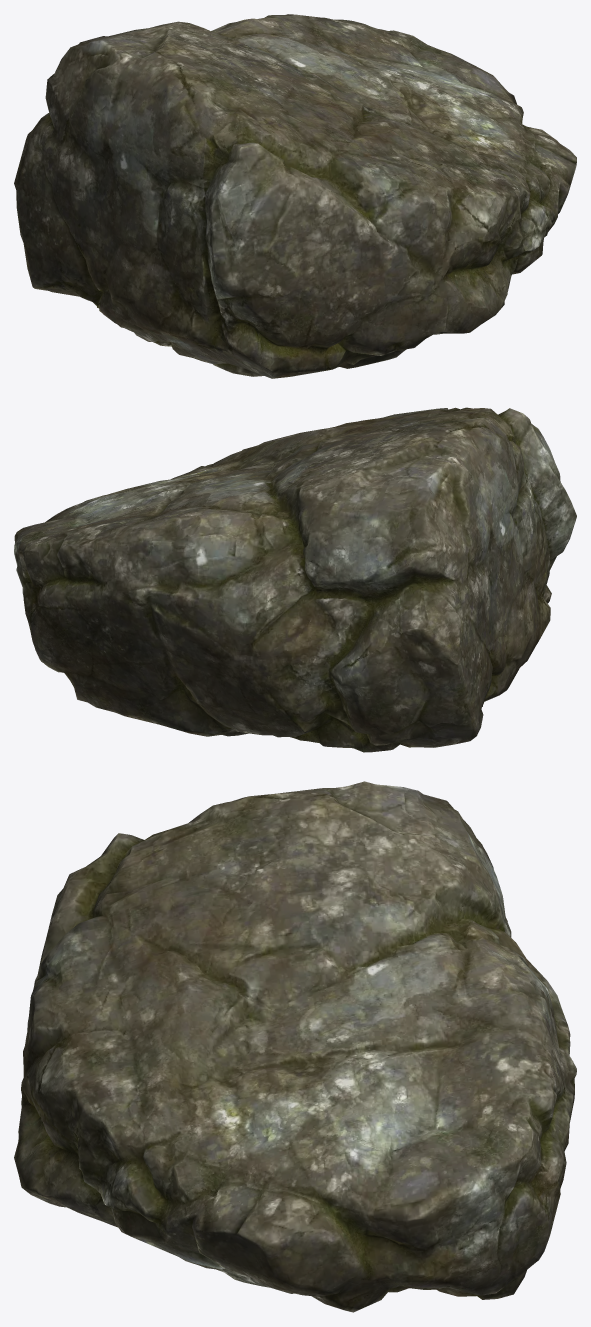
The model's file is Rock - Alien Rock 01-BHzADGWe.glb.
3 renders of one model, top to bottom at view 1: azimuth 30°, elevation 25°; view 2: azimuth 150°, elevation 25°; view 3: azimuth 270°, elevation 25°, orthographic. The views are drawn at different scales.
Visible parts, largest first — view 1: Rock_01(Clone); view 2: Rock_01(Clone); view 3: Rock_01(Clone).
Boxes of the visible parts, left/top/right/bottom form: Rock_01(Clone): left=14, top=14, right=576, bottom=378; Rock_01(Clone): left=14, top=407, right=576, bottom=752; Rock_01(Clone): left=14, top=781, right=576, bottom=1312.
Bounding box in the file's own units: 5.56 × 3.26 × 4.7.
1 material, 1 textured.
